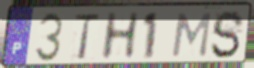1: (141, 11, 160, 61)
3: (33, 12, 65, 65)
H: (99, 11, 142, 62)
M: (170, 11, 214, 59)
S: (209, 9, 246, 60)
T: (72, 12, 101, 62)
